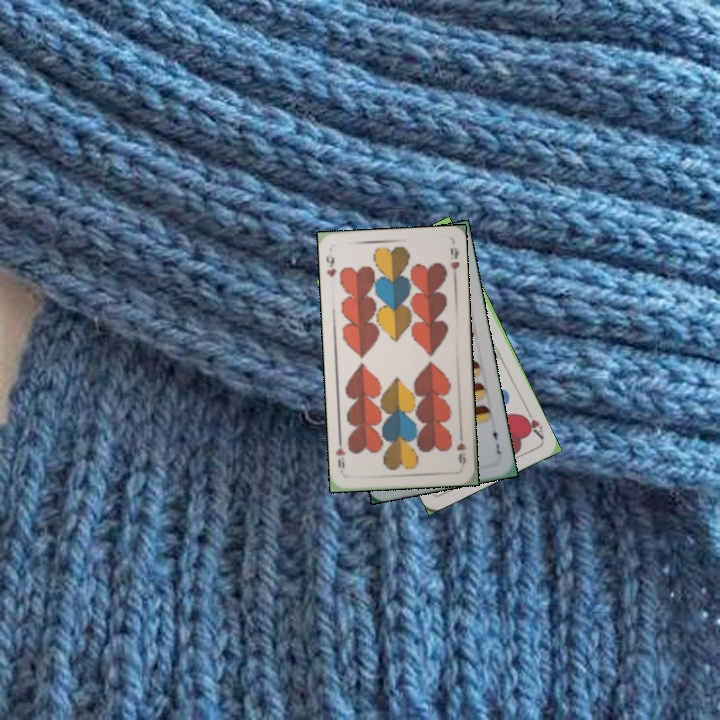E7: (489, 422, 504, 457)
H9: (453, 429, 468, 469), (322, 248, 339, 280)
HA: (518, 404, 547, 442)
